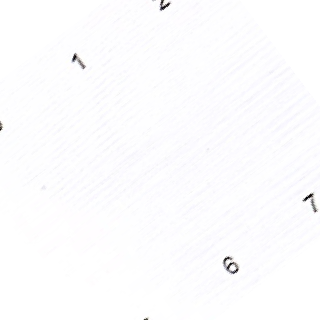seven: (301, 189, 319, 215)
six: (221, 253, 241, 277)
